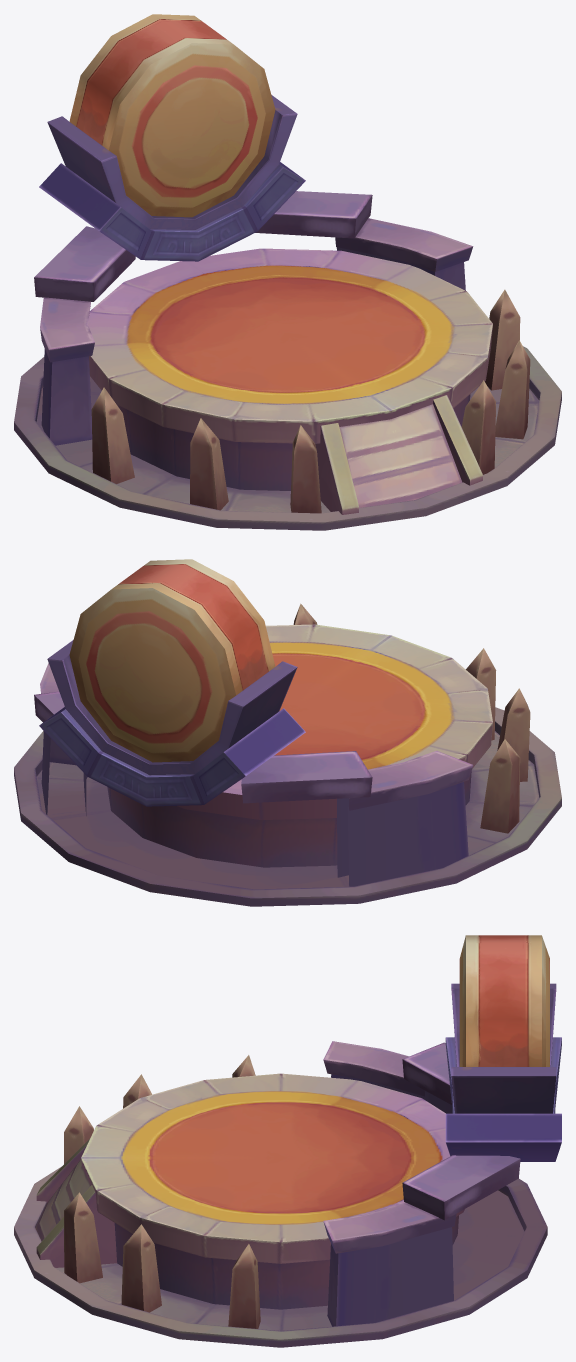
The picture shows the model from 3 angles, top to bottom: view 1: azimuth 30°, elevation 25°; view 2: azimuth 150°, elevation 25°; view 3: azimuth 270°, elevation 25°; orthographic projection. The views are drawn at different scales.
Parts seen in each view (by area): view 1: zc_bw_01; view 2: zc_bw_01; view 3: zc_bw_01.
Boxes of the visible parts, bbox=[...] form: zc_bw_01: bbox=[14, 14, 561, 530]; zc_bw_01: bbox=[14, 559, 561, 906]; zc_bw_01: bbox=[14, 935, 561, 1347].
Bounding box in the file's own units: 922 × 947 × 560.
